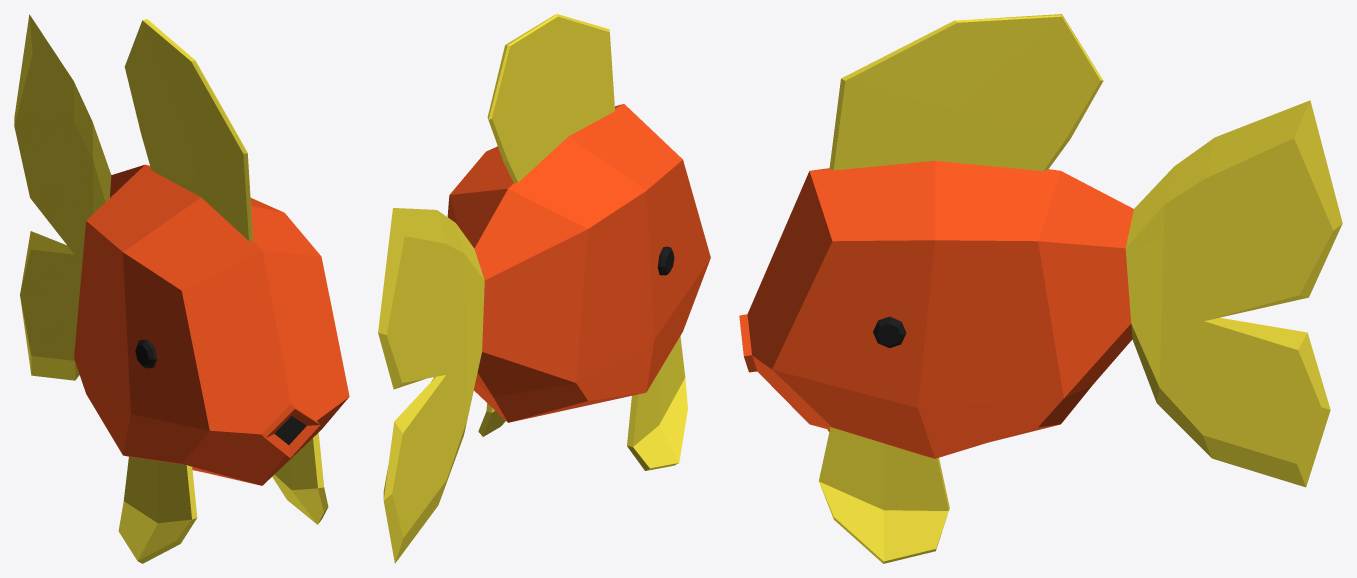
3 views of the same model, side by side, from view 1: azimuth 30°, elevation 25°; view 2: azimuth 150°, elevation 25°; view 3: azimuth 270°, elevation 25° (orthographic). The views are drawn at different scales.
Parts seen in each view (by area): view 1: Fish; view 2: Fish; view 3: Fish.
Boxes of the visible parts, x1,y1,x2,y2 form: Fish: (14, 14, 349, 563); Fish: (378, 14, 710, 563); Fish: (739, 14, 1342, 563).
Size of the model in its own units: 4.73 by 11.42 by 12.45.
